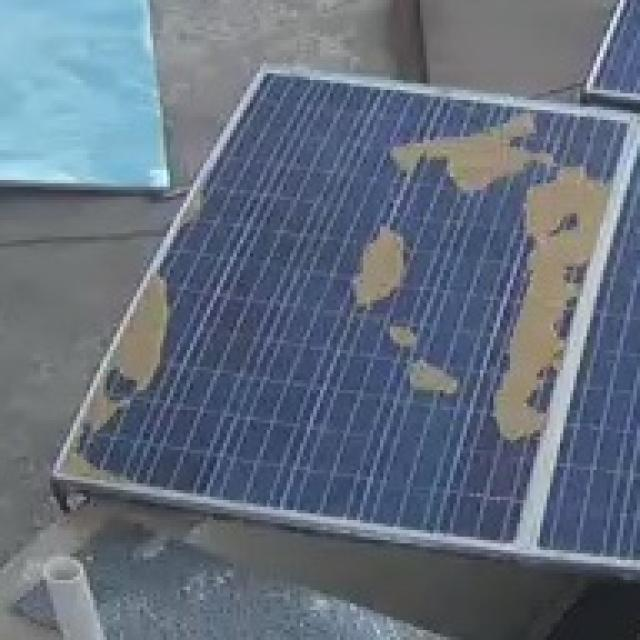Dusty: (489, 159, 625, 443), (74, 260, 178, 437), (389, 120, 546, 198), (350, 211, 411, 305), (55, 457, 140, 500), (394, 365, 456, 395), (380, 319, 432, 352)
